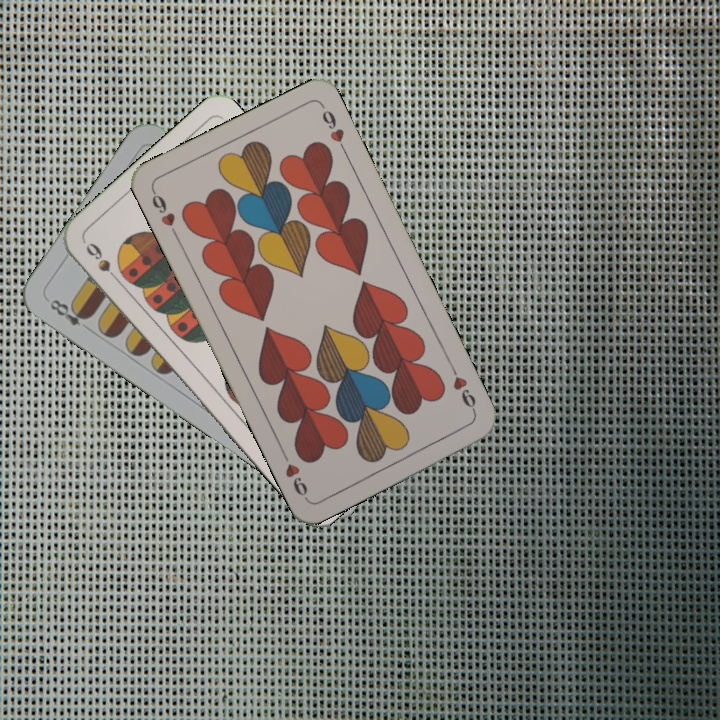E8: (45, 295, 93, 329)
H9: (446, 361, 479, 417), (147, 186, 181, 240)
S9: (81, 238, 125, 288)
